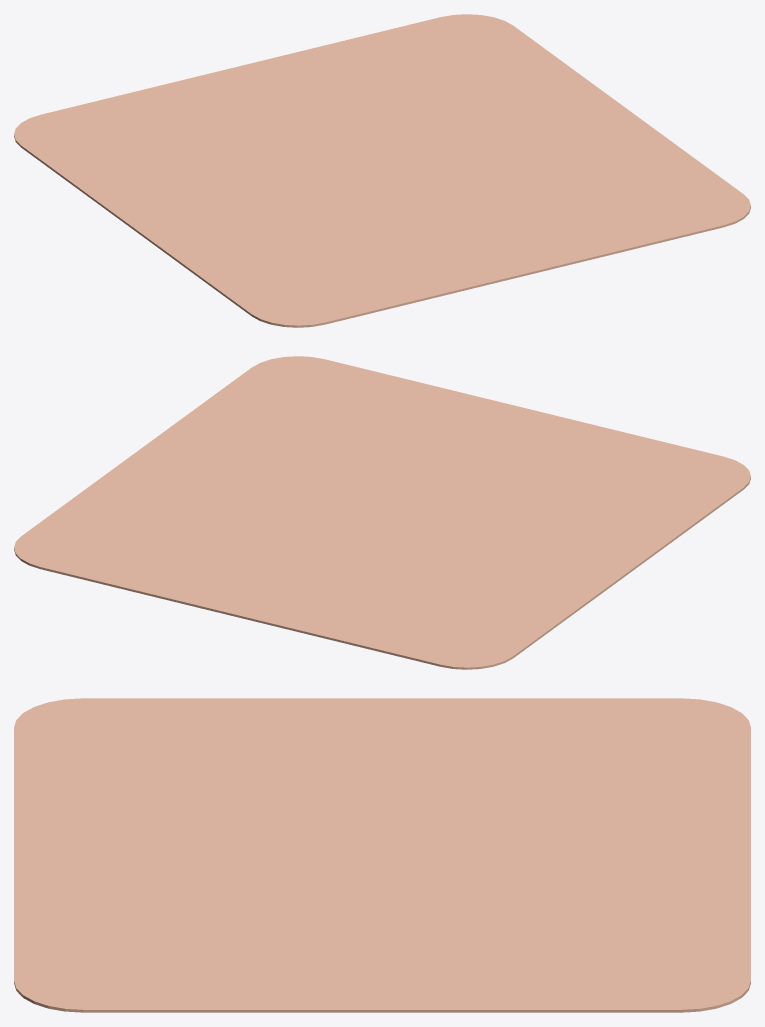
3 views of the same model, one above another, from view 1: azimuth 30°, elevation 25°; view 2: azimuth 150°, elevation 25°; view 3: azimuth 270°, elevation 25° (orthographic). The views are drawn at different scales.
Parts seen in each view (by area): view 1: COM-02 Floor Surface; view 2: COM-02 Floor Surface; view 3: COM-02 Floor Surface.
Part boxes in pixels (x1=…): COM-02 Floor Surface: x1=14, y1=14, x2=750, y2=327; COM-02 Floor Surface: x1=14, y1=356, x2=750, y2=669; COM-02 Floor Surface: x1=14, y1=698, x2=750, y2=1012.
Size of the model in its own units: 192 by 0.8 by 192.
